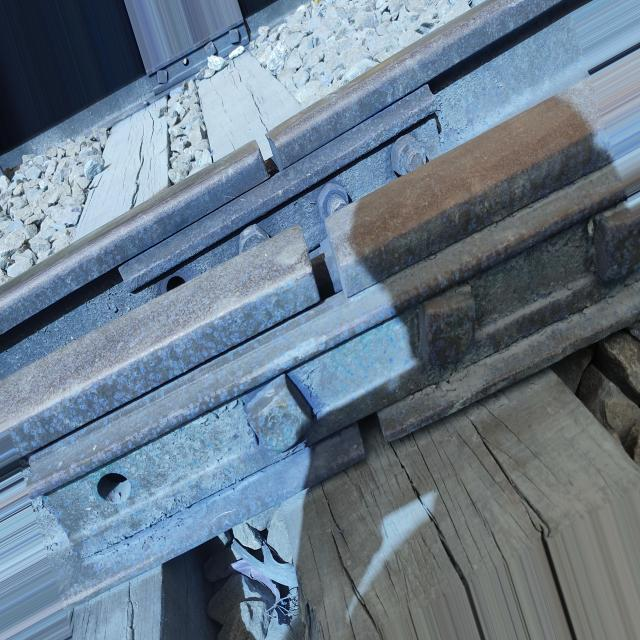Defective Joint: (30, 152, 640, 560), (121, 85, 452, 298)
